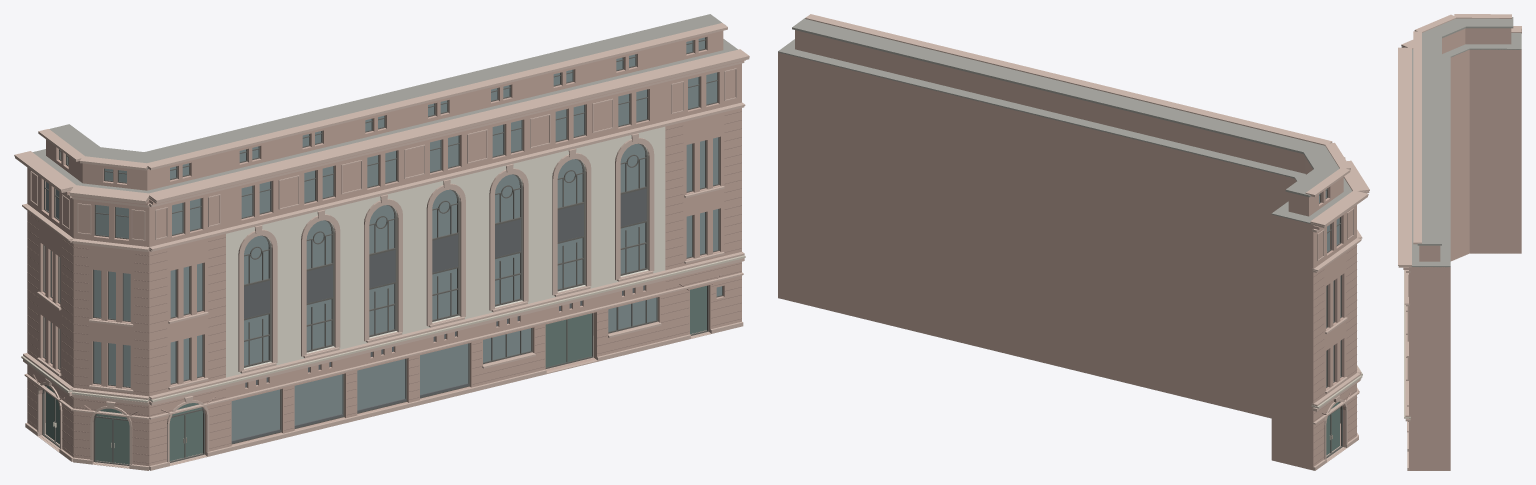
File: huangpu-yee-tsoong-tobacco-northeast-front-lod.glb
3 renders of one model, left to right at view 1: azimuth 30°, elevation 25°; view 2: azimuth 150°, elevation 25°; view 3: azimuth 270°, elevation 25°, orthographic. The views are drawn at different scales.
Visible parts, largest first — view 1: 颐中大楼南苏州路北面与东北抹角; view 2: 颐中大楼南苏州路北面与东北抹角; view 3: 颐中大楼南苏州路北面与东北抹角.
Boxes of the visible parts, x1,y1,x2,y2 form: 颐中大楼南苏州路北面与东北抹角: [14, 14, 749, 470]; 颐中大楼南苏州路北面与东北抹角: [778, 14, 1369, 470]; 颐中大楼南苏州路北面与东北抹角: [1398, 14, 1521, 470].
Size of the model in its own units: 43.99 by 19.23 by 9.62.
